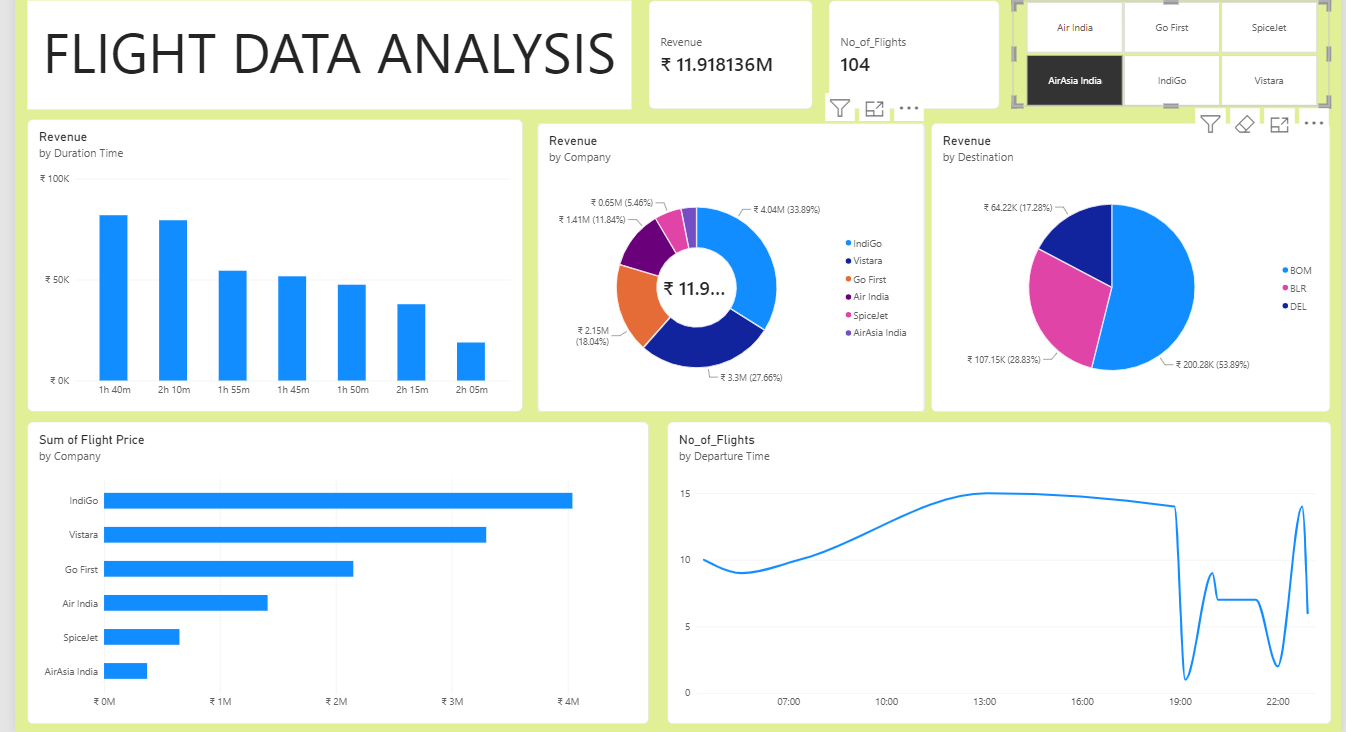

The dashboard page shown, as its layout file describes it:
{"tool":"powerbi","page":{"name":"Page 1","canvas":[1920,1080],"ordinal":0},"visuals":[{"type":"cardVisual","fields":{"Data":["data (3).Revenue"]},"box":[917.5,18.1,237.1,157.4],"z":0},{"type":"cardVisual","fields":{"Data":["data (3).No_of_Flights"]},"box":[1178.1,18.1,247.9,157.4],"z":1000},{"type":"lineChart","fields":{"Category":["data (3).Departure Time"],"Y":["data (3).No_of_Flights"]},"box":[944.6,628,960.9,437.9],"z":2000},{"type":"barChart","fields":{"Category":["data (3).Company"],"Y":["Sum(data (3).Flight Price)"]},"box":[18.1,628,899.4,437.9],"z":3000},{"type":"donutChart","fields":{"Category":["data (3).Company"],"Y":["data (3).Revenue"]},"box":[756.4,195.4,561,418],"z":4000},{"type":"columnChart","fields":{"Category":["data (3).Duration Time"],"Y":["data (3).Revenue"]},"box":[18.1,190,716.6,423.5],"z":5000},{"type":"pieChart","fields":{"Category":["data (3).Destination"],"Y":["data (3).Revenue"]},"box":[1326.5,195.4,577.3,418],"z":6000},{"type":"textbox","box":[18.1,18.1,874.1,157.4],"z":7000},{"type":"slicer","fields":{"Values":["data (3).Company"]},"box":[1444.1,18.1,459.7,153.8],"z":8000}]}

Visuals, with their boxes on the page's 1920x1080 design canvas (x1, y1, x2, y2). These are canvas units, not pixel positions in the 1346x732 screenshot, which may show the page scaled, cropped or inside an application window:
cardVisual - data (3).Revenue: Rect(918, 18, 1155, 176)
cardVisual - data (3).No_of_Flights: Rect(1178, 18, 1426, 176)
lineChart - data (3).Departure Time x data (3).No_of_Flights: Rect(945, 628, 1906, 1066)
barChart - data (3).Company x Sum(data (3).Flight Price): Rect(18, 628, 918, 1066)
donutChart - data (3).Company x data (3).Revenue: Rect(756, 195, 1317, 613)
columnChart - data (3).Duration Time x data (3).Revenue: Rect(18, 190, 735, 614)
pieChart - data (3).Destination x data (3).Revenue: Rect(1326, 195, 1904, 613)
textbox: Rect(18, 18, 892, 176)
slicer - data (3).Company: Rect(1444, 18, 1904, 172)
